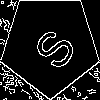S: (25, 20, 79, 73)
